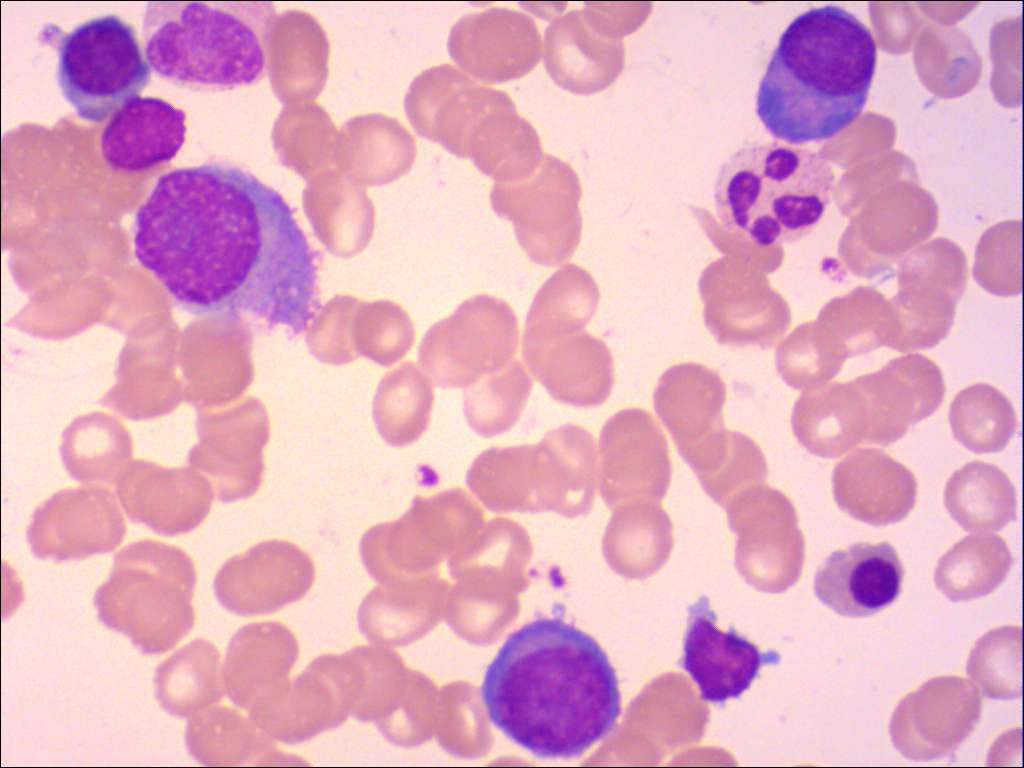23: (35, 10, 155, 128)
24: (808, 538, 908, 624)
32: (672, 591, 783, 712)
51: (129, 156, 324, 341), (478, 600, 624, 763), (751, 3, 881, 147)
x: (711, 139, 839, 250), (140, 1, 281, 97), (98, 93, 188, 176)
